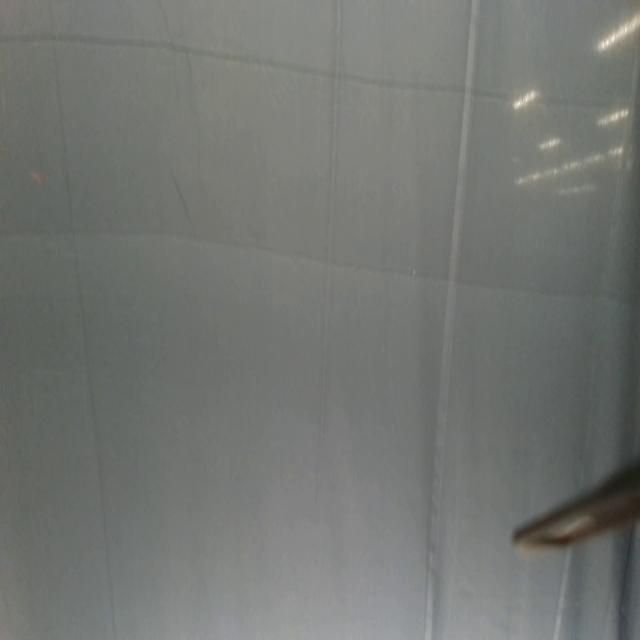color bleeding: (1, 31, 640, 311)
crease: (48, 0, 119, 639), (424, 0, 481, 639), (314, 0, 342, 524), (554, 546, 574, 638)
hole: (26, 168, 43, 183), (412, 268, 418, 278)
